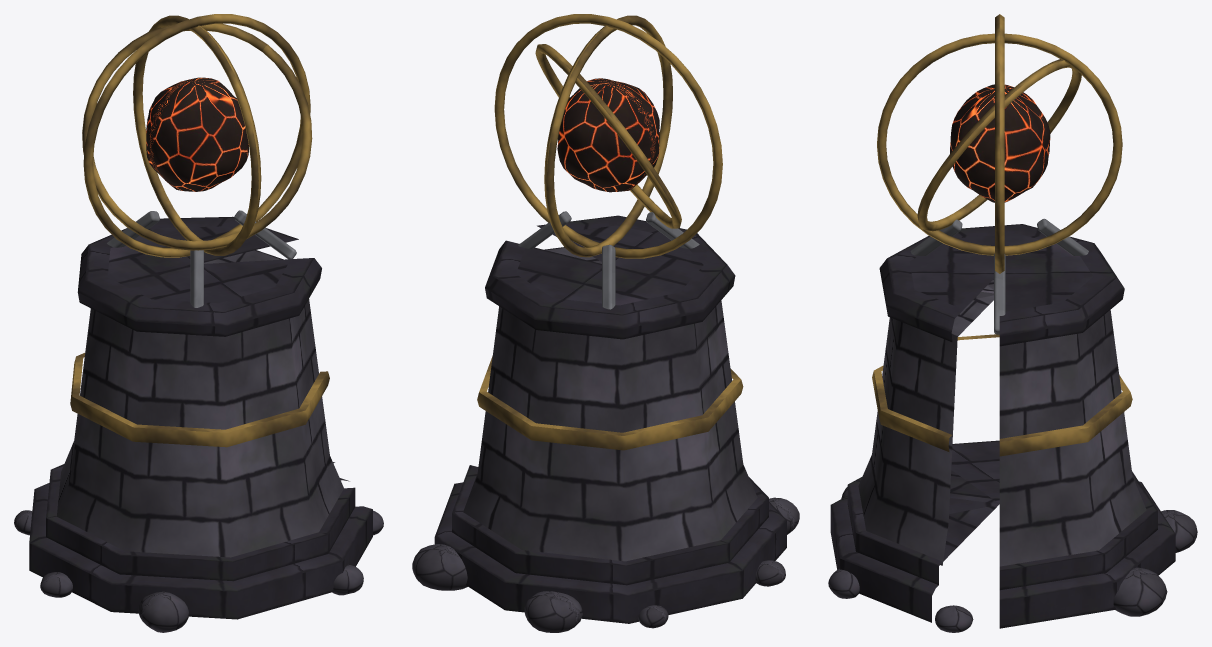
The model's file is meteor.glb.
3 renders of one model, left to right at view 1: azimuth 30°, elevation 25°; view 2: azimuth 150°, elevation 25°; view 3: azimuth 270°, elevation 25°, orthographic.
Visible parts, largest first — view 1: Base, Turret; view 2: Base, Turret; view 3: Base, Turret.
Boxes of the visible parts, left/top/right/bottom form: Base: left=14, top=210, right=383, bottom=632; Turret: left=82, top=14, right=312, bottom=257; Base: left=412, top=211, right=799, bottom=632; Turret: left=494, top=14, right=722, bottom=258; Base: left=828, top=218, right=1197, bottom=632; Turret: left=877, top=14, right=1122, bottom=273.
Bounding box in the file's own units: 0.9549 × 1.52 × 0.9403.
6 materials, 6 textured.
